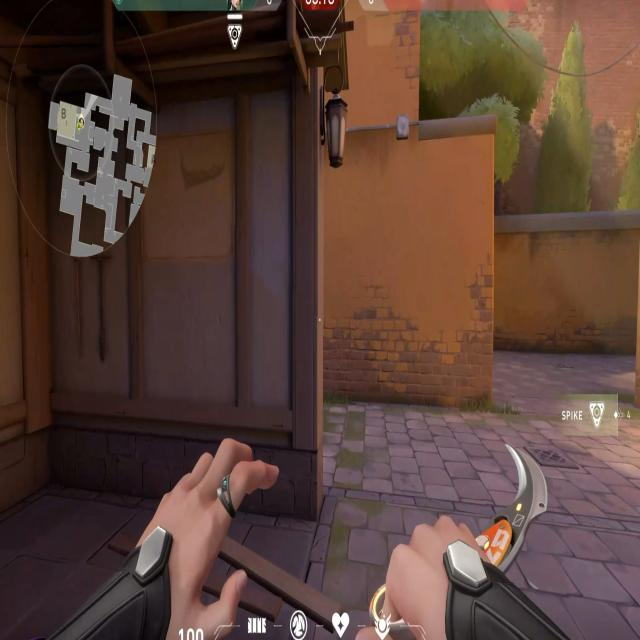B_Garage_Right: (3, 88, 348, 527)
